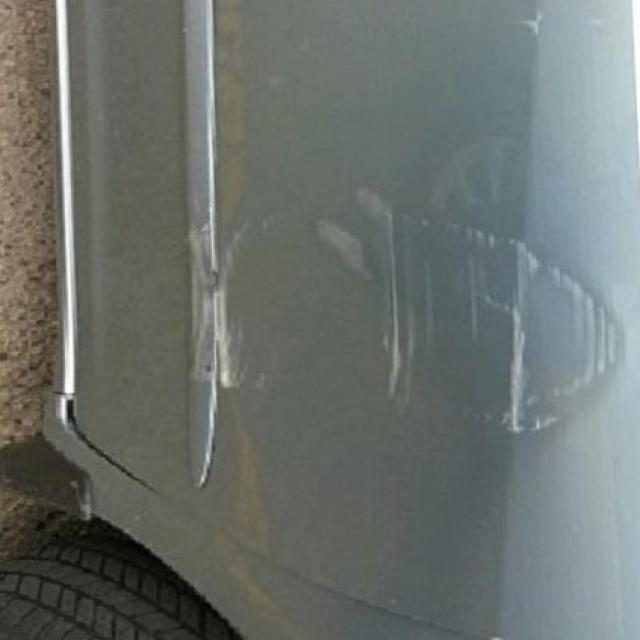scratch: (150, 172, 640, 432)
